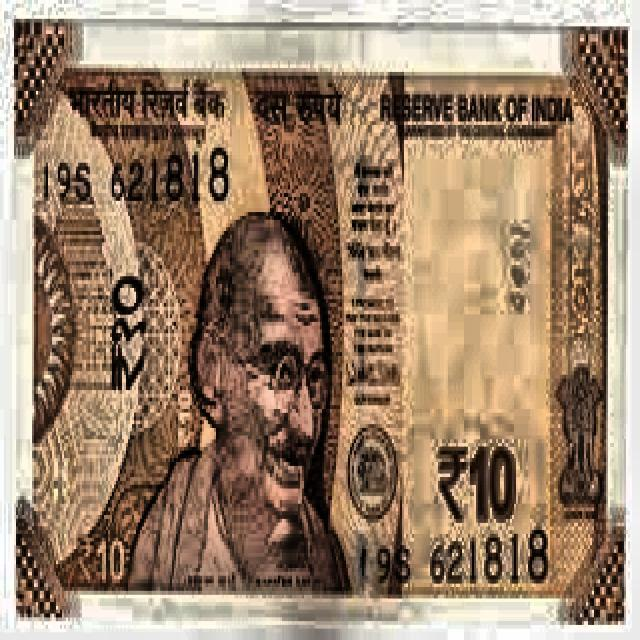-10-: (16, 19, 640, 636)
